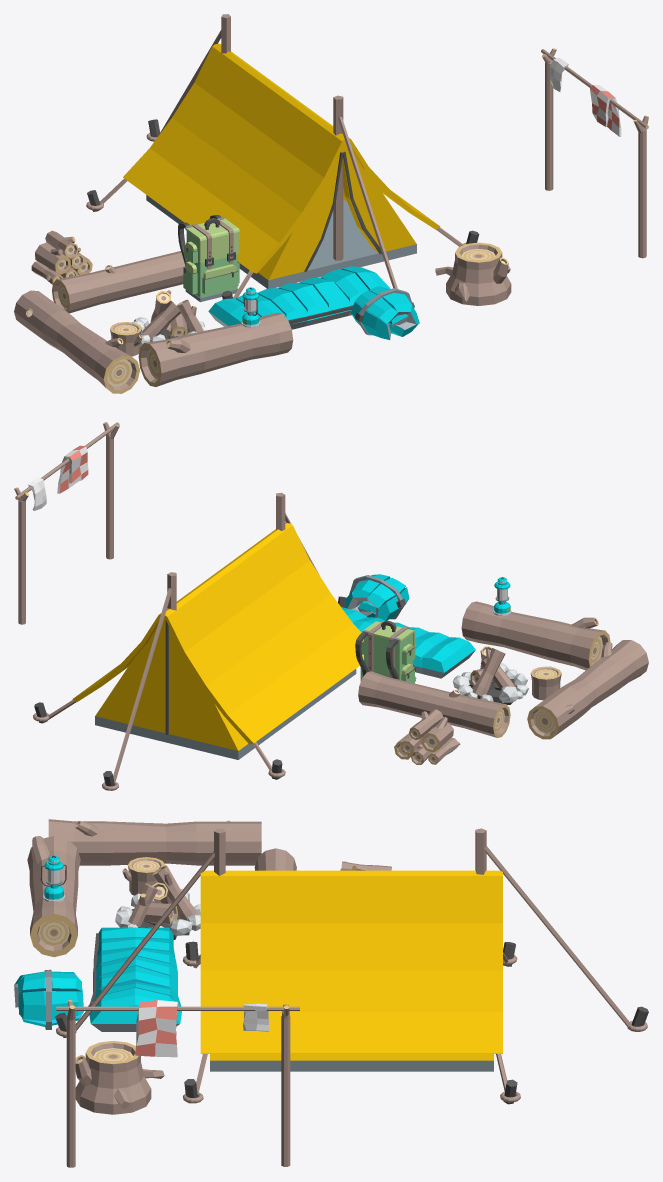
File: camping set.fbx
3 views of the same model, one above another, from view 1: azimuth 30°, elevation 25°; view 2: azimuth 150°, elevation 25°; view 3: azimuth 270°, elevation 25° (orthographic). The views are drawn at different scales.
Visible parts, largest first — view 1: tent, sleepingbag, log, log1, log2, bag, clothing_rack, stump1, firepit, small_logs, stump, famp; view 2: tent, log, log1, sleepingbag, log2, clothing_rack, bag, firepit, small_logs, stump, famp; view 3: tent, sleepingbag, log1, clothing_rack, stump1, log, firepit, stump, famp, log2.
Boxes of the visible parts, x1,y1,x2,y2 form: tent: (86,14,479,308); sleepingbag: (208,266,419,339); log: (138,312,293,386); log1: (14,290,139,393); log2: (52,251,185,313); bag: (178,215,239,302); clothing_rack: (541,48,648,258); stump1: (435,242,511,305); firepit: (132,290,205,345); small_logs: (31,230,92,284); stump: (110,322,142,356); famp: (241,287,260,327); tent: (33,492,416,790); log: (461,601,610,670); log1: (527,640,648,739); sleepingbag: (341,574,475,678); log2: (358,671,510,737); clothing_rack: (14,422,119,624); bag: (355,620,415,683); firepit: (452,646,528,704); small_logs: (394,709,460,764); stump: (530,666,561,700); famp: (493,577,511,616); tent: (55,828,648,1104); sleepingbag: (14,927,181,1031); log1: (48,819,261,865); clothing_rack: (56,1000,299,1167); stump1: (75,1041,164,1114); log: (27,836,80,957); firepit: (115,865,200,939); stump: (122,857,165,895); famp: (40,855,66,901); log2: (254,848,296,870).
Bounding box in the file's own units: 1100 × 347 × 932.
